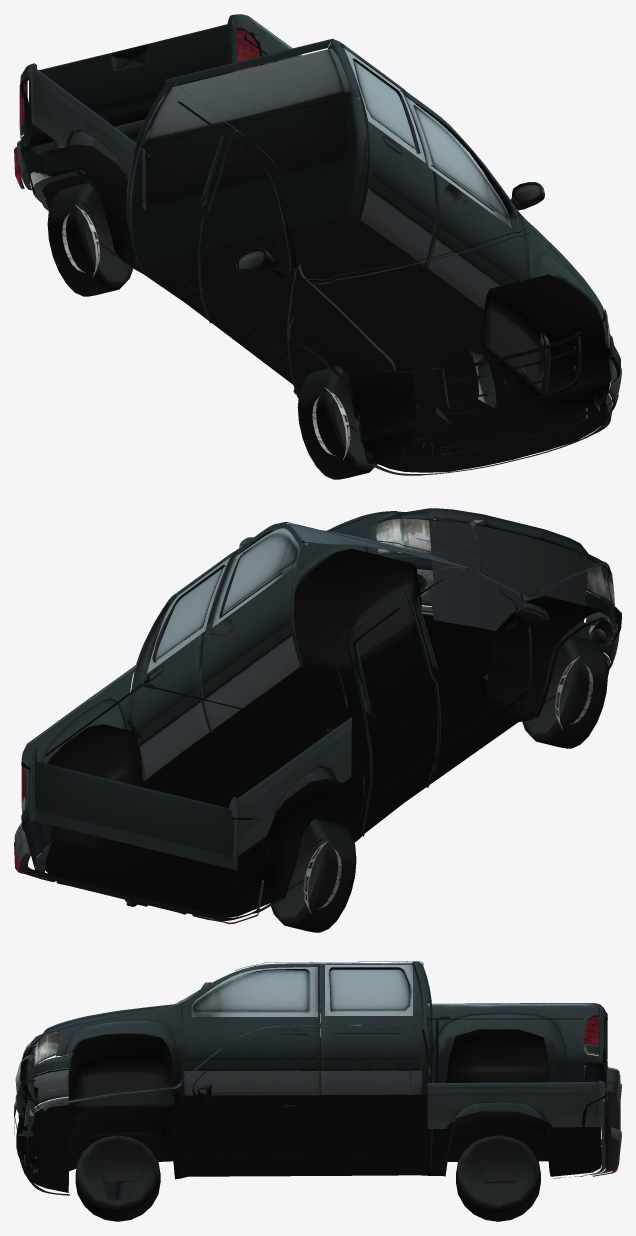
The picture shows the model from 3 angles, top to bottom: view 1: azimuth 30°, elevation 25°; view 2: azimuth 150°, elevation 25°; view 3: azimuth 270°, elevation 25°; orthographic projection. The views are drawn at different scales.
Visible parts, largest first — view 1: Box001, Box002; view 2: Box001, Box002; view 3: Box001, Box002.
Boxes of the visible parts, x1,y1,x2,y2 form: Box001: (14,14,621,479); Box002: (144,48,540,270); Box001: (14,508,621,932); Box002: (147,523,481,673); Box001: (14,961,621,1221); Box002: (171,965,412,1016).
Size of the model in its own units: 2.15 by 1.63 by 4.87.
2 materials, 2 textured.
